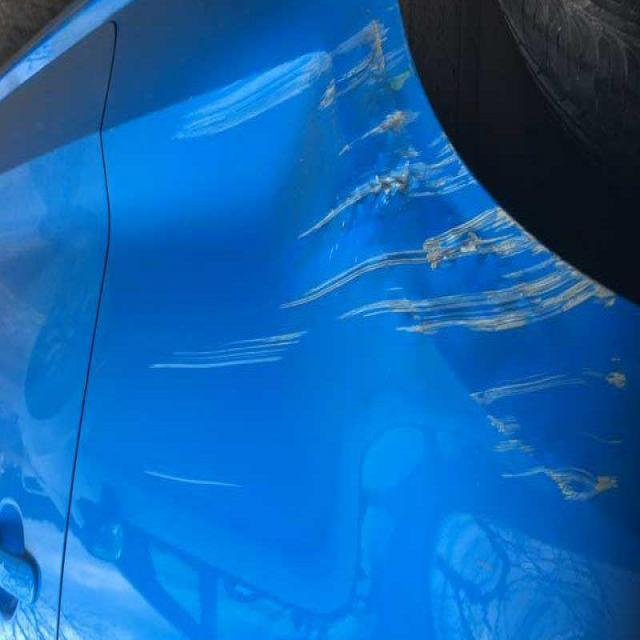scratch: (134, 32, 636, 512)
